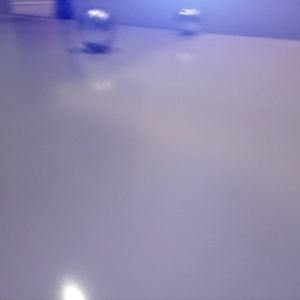alive_ball: (78, 9, 116, 52), (175, 9, 202, 34)
